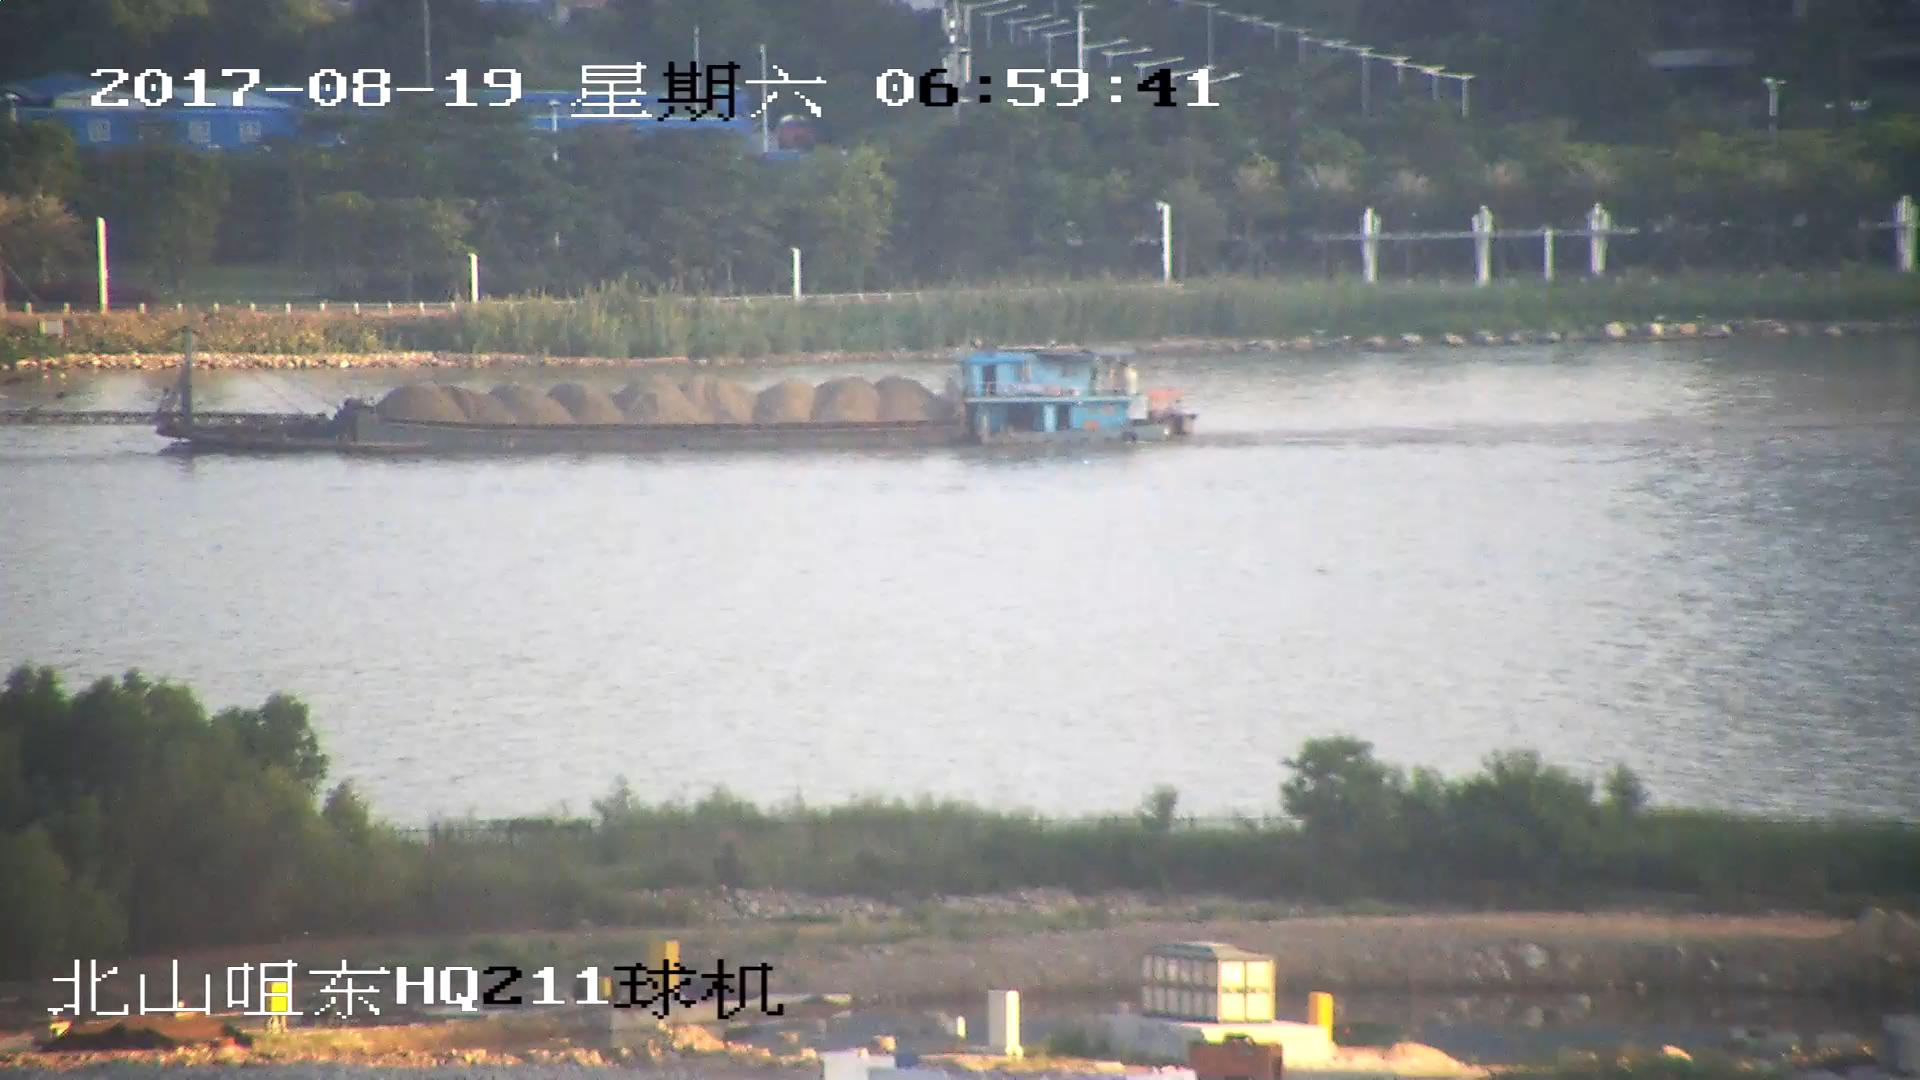ore carrier: (1, 320, 1201, 445)
